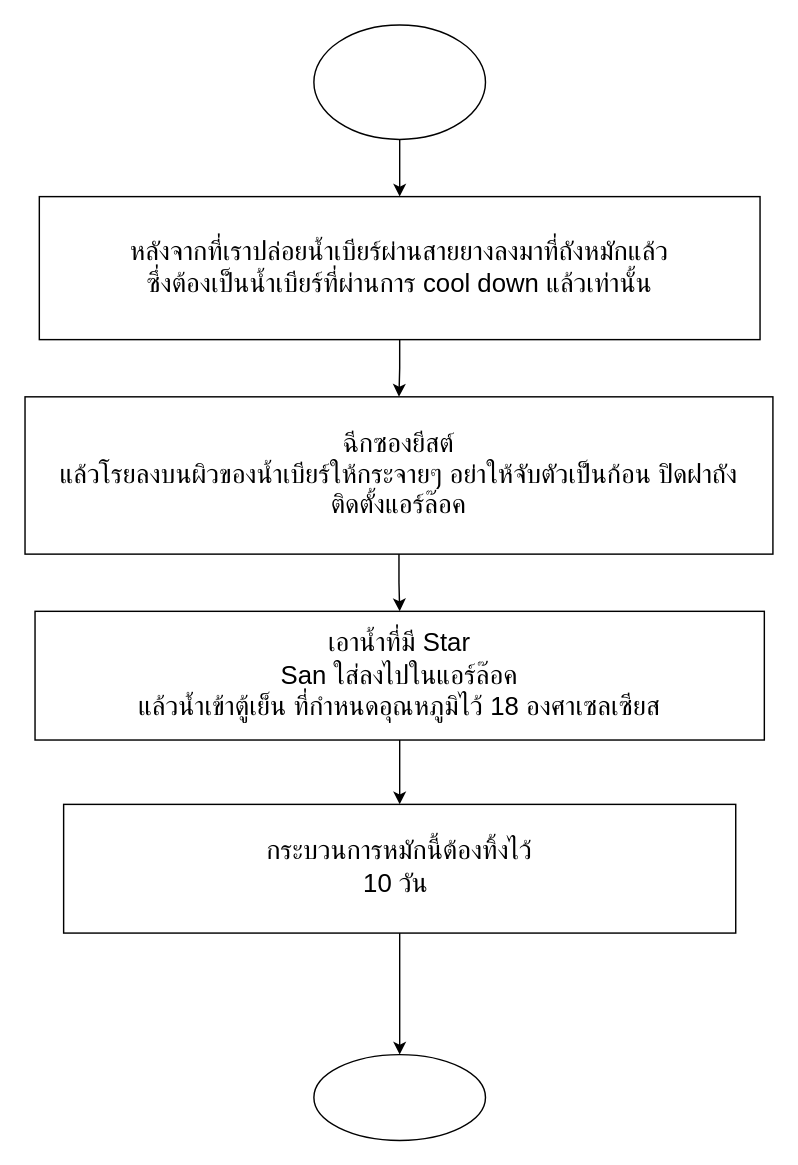
Image size: 798x1165. Some labels were removed from this diagram. The shapes that lost their labels are listed below. From the top down, each one's box as (x1, y1, x2, y2) in pixels, then its label:
(312, 24, 485, 139): start การหมัก
(312, 1053, 485, 1140): stop
